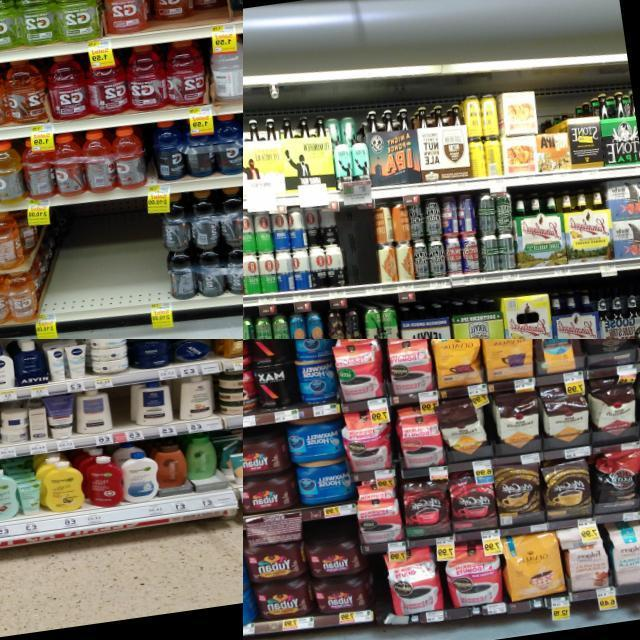empty: (52, 196, 172, 320), (339, 212, 382, 298), (108, 387, 134, 443)
